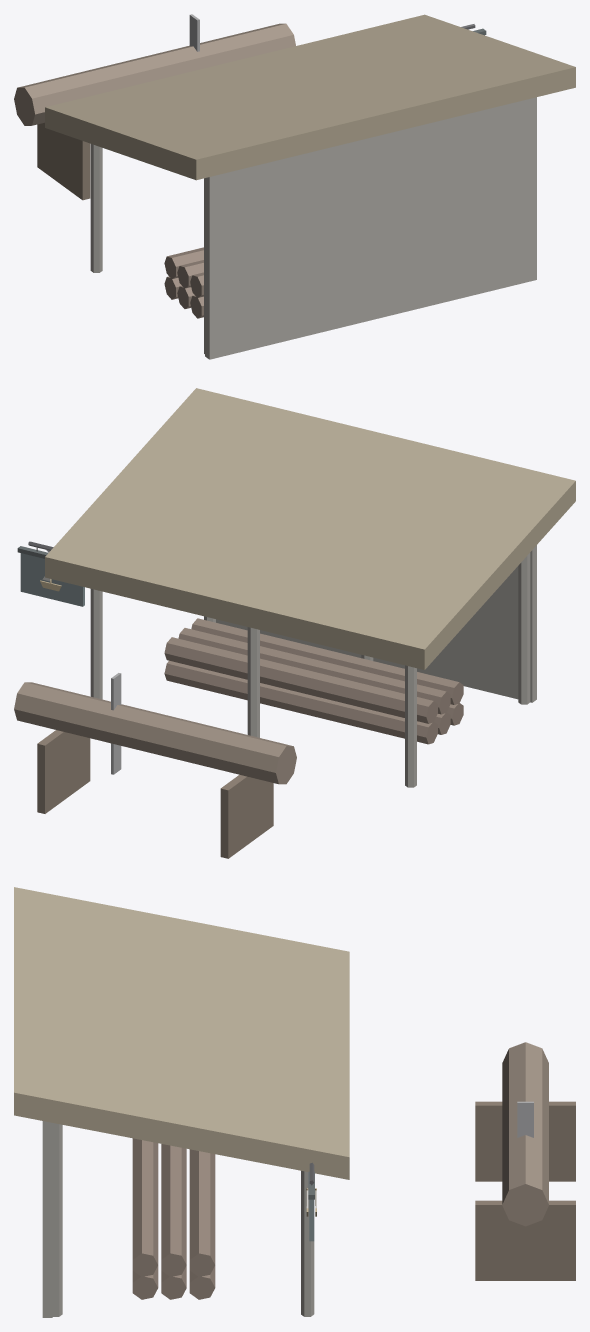
Rendered from shipyard_1.gltf.
3 views of the same model, one above another, from view 1: azimuth 30°, elevation 25°; view 2: azimuth 150°, elevation 25°; view 3: azimuth 270°, elevation 25° (orthographic). The views are drawn at different scales.
Visible parts, largest first — view 1: Body; view 2: Body; view 3: Body.
Part boxes in pixels (x1,y1,x2,y2): Body: [14, 14, 575, 359]; Body: [14, 388, 575, 858]; Body: [14, 887, 575, 1317].
Size of the model in its own units: 6.45 by 3.15 by 6.7.
